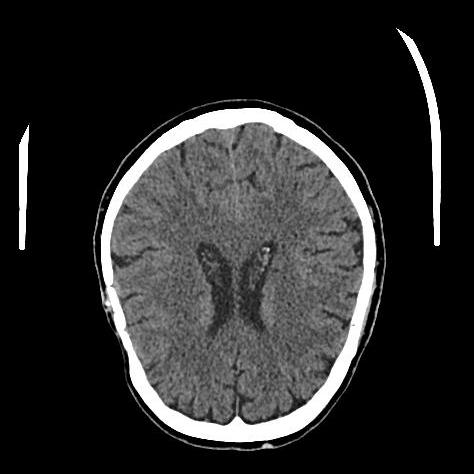Normal_Brain: (79, 92, 389, 472)
